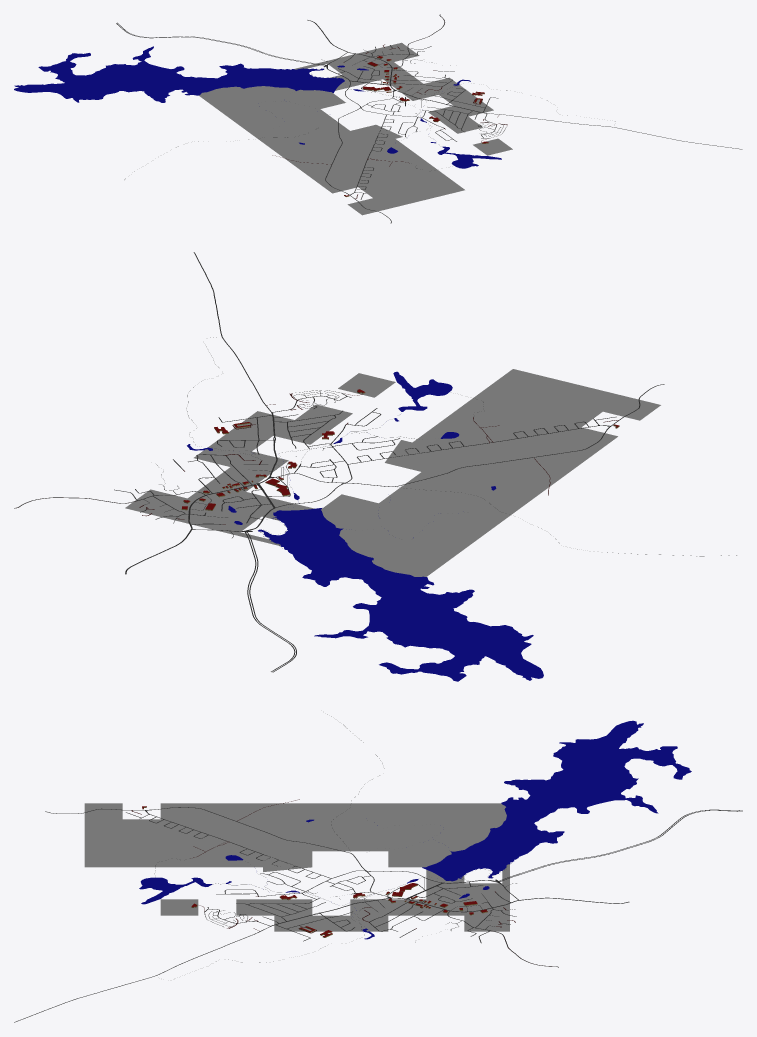
File: map_-63.64-44.59--63.61-44.62.obj
3 renders of one model, top to bottom at view 1: azimuth 30°, elevation 25°; view 2: azimuth 150°, elevation 25°; view 3: azimuth 270°, elevation 25°, orthographic. The views are drawn at different scales.
Visible parts, largest first — view 1: Water Long Lake, SurfaceArea1014, Road Herring Cove Road, Water937, SurfaceArea997, SurfaceArea1010, SurfaceArea978, SurfaceArea979, SurfaceArea981, SurfaceArea993, SurfaceArea994, SurfaceArea1004 (+41 smaller); view 2: Water Long Lake, SurfaceArea1014, Water937, SurfaceArea998, SurfaceArea976, SurfaceArea982, SurfaceArea1003, SurfaceArea977, SurfaceArea979, SurfaceArea981, SurfaceArea985, SurfaceArea993 (+40 smaller); view 3: Water Long Lake, SurfaceArea1014, Road Herring Cove Road, Water937, SurfaceArea973, SurfaceArea977, SurfaceArea978, SurfaceArea979, SurfaceArea980, SurfaceArea981, SurfaceArea982, SurfaceArea985 (+42 smaller).
Part boxes in pixels (left/top/right/bottom): Water Long Lake: left=14, top=46, right=344, bottom=102; SurfaceArea1014: left=351, top=124, right=402, bottom=146; Road Herring Cove Road: left=307, top=20, right=742, bottom=149; Water937: left=437, top=146, right=501, bottom=168; SurfaceArea997: left=399, top=185, right=439, bottom=202; SurfaceArea1010: left=410, top=168, right=450, bottom=185; SurfaceArea978: left=273, top=143, right=312, bottom=160; SurfaceArea979: left=258, top=132, right=298, bottom=149; SurfaceArea981: left=228, top=111, right=268, bottom=127; SurfaceArea993: left=254, top=104, right=294, bottom=121; SurfaceArea994: left=239, top=93, right=279, bottom=110; SurfaceArea1004: left=295, top=109, right=334, bottom=126; Water Long Lake: left=258, top=508, right=543, bottom=681; SurfaceArea1014: left=385, top=440, right=449, bottom=471; Water937: left=393, top=371, right=452, bottom=411; SurfaceArea998: left=507, top=393, right=565, bottom=418; SurfaceArea976: left=539, top=443, right=596, bottom=467; SurfaceArea982: left=410, top=537, right=468, bottom=561; SurfaceArea1003: left=400, top=472, right=458, bottom=496; SurfaceArea977: left=517, top=459, right=575, bottom=483; SurfaceArea979: left=474, top=490, right=532, bottom=514; SurfaceArea981: left=432, top=521, right=489, bottom=545; SurfaceArea985: left=566, top=387, right=623, bottom=411; SurfaceArea993: left=395, top=512, right=452, bottom=536; Water Long Lake: left=422, top=720, right=691, bottom=881; SurfaceArea1014: left=263, top=847, right=312, bottom=871; Road Herring Cove Road: left=14, top=897, right=629, bottom=1022; Water937: left=139, top=877, right=212, bottom=904; SurfaceArea973: left=84, top=803, right=122, bottom=819; SurfaceArea977: left=236, top=803, right=274, bottom=819; SurfaceArea978: left=274, top=803, right=312, bottom=819; SurfaceArea979: left=312, top=803, right=350, bottom=819; SurfaceArea980: left=350, top=803, right=388, bottom=819; SurfaceArea981: left=388, top=803, right=426, bottom=819; SurfaceArea982: left=426, top=803, right=464, bottom=819; SurfaceArea985: left=84, top=819, right=122, bottom=835.
Bounding box in the file's own units: 5840 × 108 × 5759.
